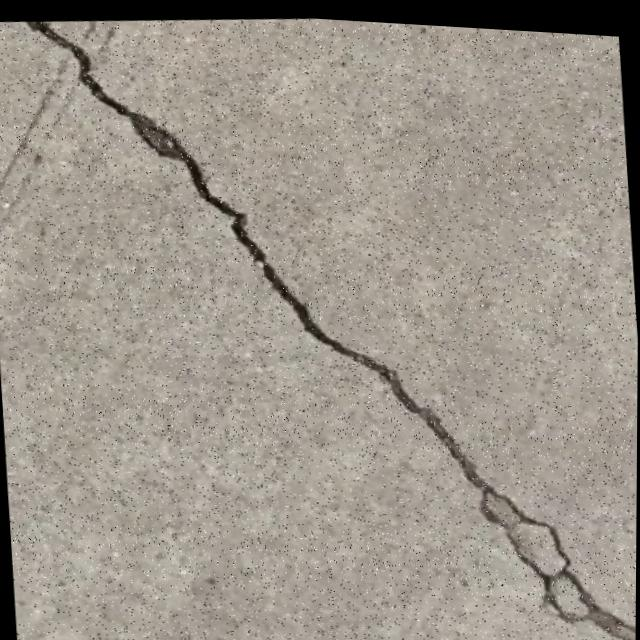Crack: (14, 1, 640, 640)
